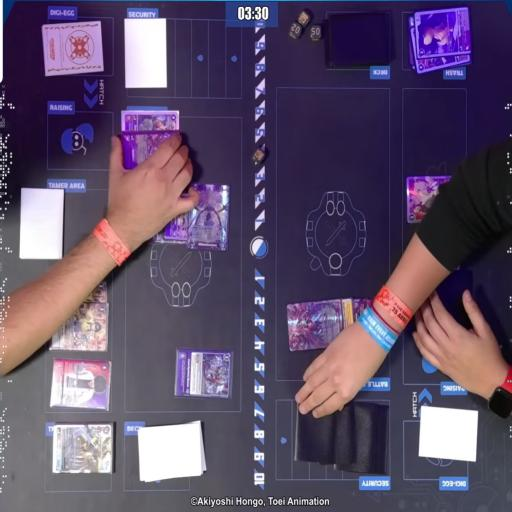card: (51, 421, 118, 476), (186, 179, 234, 255), (48, 360, 114, 414), (119, 128, 179, 182), (49, 304, 111, 356), (285, 298, 341, 354), (173, 350, 235, 400), (416, 6, 473, 59), (403, 176, 463, 225), (118, 110, 179, 139), (411, 49, 470, 78), (162, 194, 193, 244), (75, 278, 112, 308), (351, 296, 367, 338), (339, 296, 351, 338)
